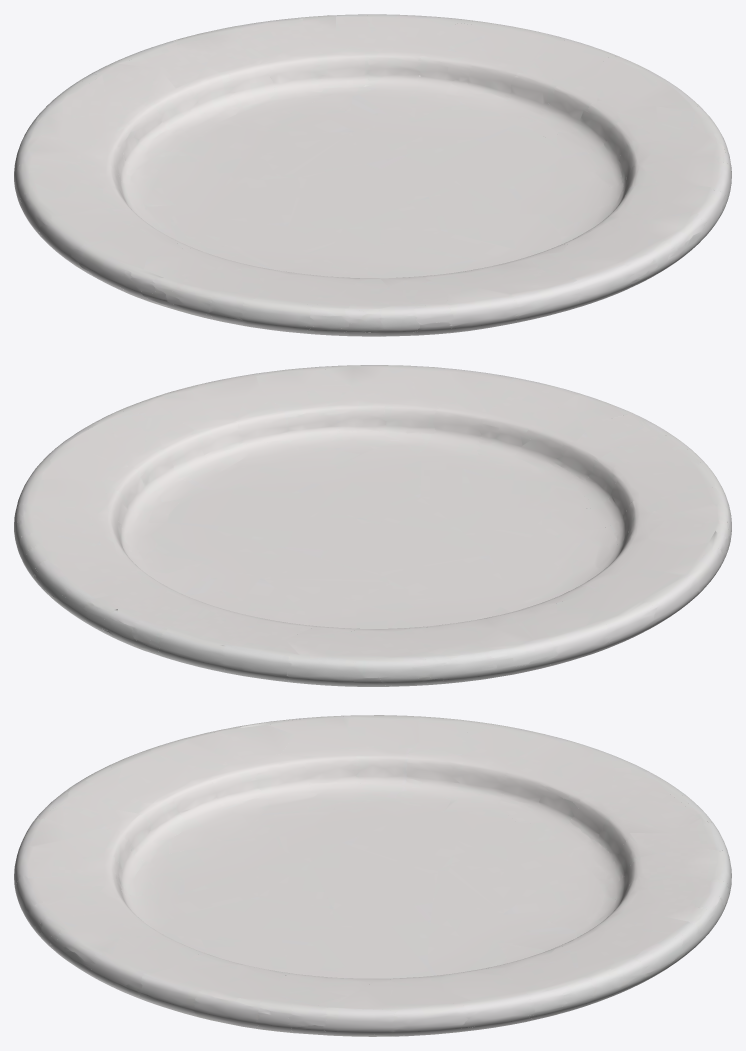
Rendered from plan_plate.glb.
The picture shows the model from 3 angles, top to bottom: view 1: azimuth 30°, elevation 25°; view 2: azimuth 150°, elevation 25°; view 3: azimuth 270°, elevation 25°; orthographic projection.
Visible parts, largest first — view 1: Mesh_0; view 2: Mesh_0; view 3: Mesh_0.
Part boxes in pixels (bbox=[...]): Mesh_0: bbox=[14, 14, 731, 336]; Mesh_0: bbox=[14, 365, 731, 686]; Mesh_0: bbox=[14, 715, 731, 1036].
Bounding box in the file's own units: 1 × 0.0786 × 0.9997.
Materials: 1 (1 with a texture image).
